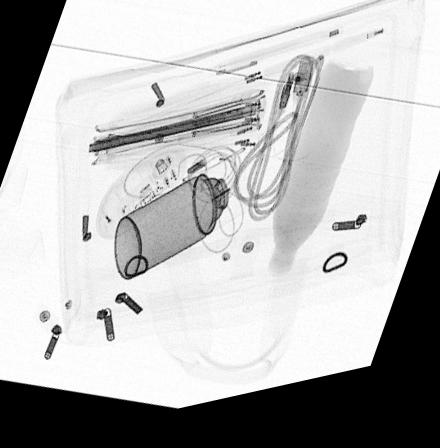Sprayer: (111, 167, 240, 285)
